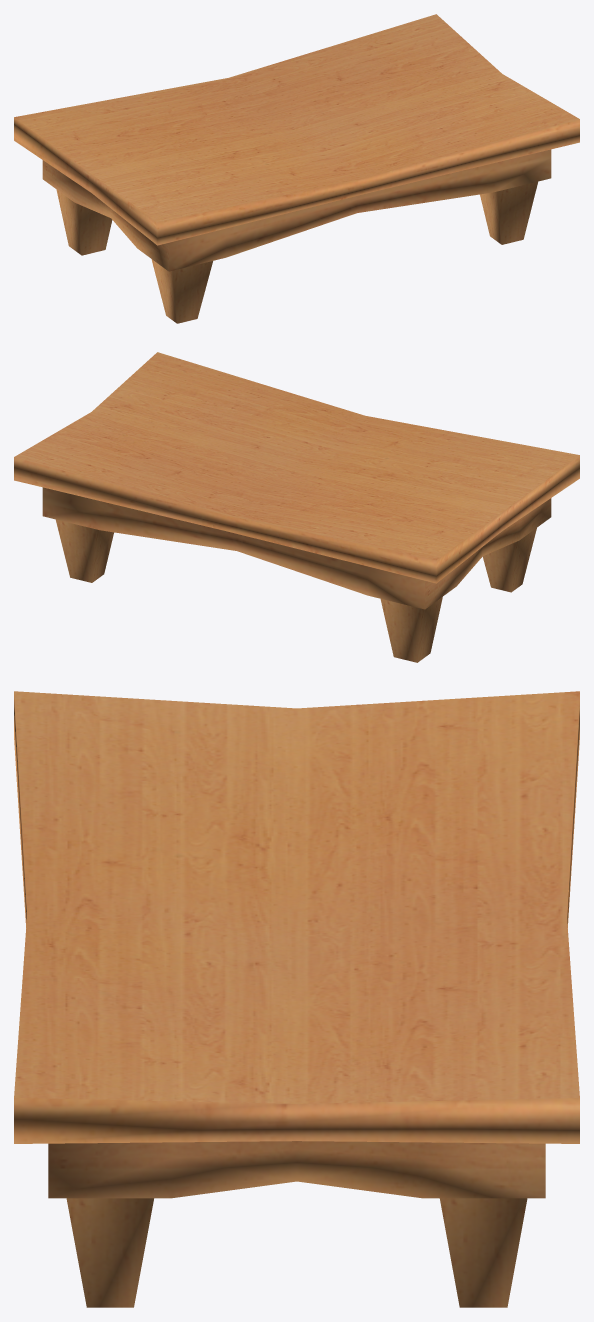
File: couch_table.fbx
3 renders of one model, top to bottom at view 1: azimuth 30°, elevation 25°; view 2: azimuth 150°, elevation 25°; view 3: azimuth 270°, elevation 25°, orthographic. The views are drawn at different scales.
Parts seen in each view (by area): view 1: cough_table; view 2: cough_table; view 3: cough_table.
Boxes of the visible parts, x1,y1,x2,y2 form: cough_table: (14, 14, 579, 323); cough_table: (14, 352, 579, 662); cough_table: (14, 691, 579, 1307).
Size of the model in its own units: 221 by 62.4 by 130.
